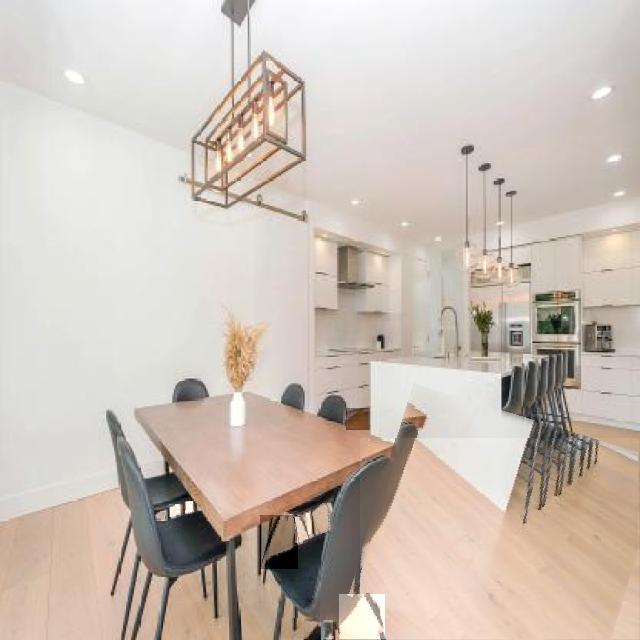floor: (361, 439, 639, 640), (0, 486, 136, 640), (260, 515, 298, 569), (340, 595, 385, 639), (280, 599, 320, 638), (313, 503, 329, 534), (347, 409, 370, 430), (295, 518, 308, 543), (305, 619, 320, 640), (324, 621, 333, 639), (170, 505, 180, 517), (185, 502, 193, 513), (155, 511, 164, 520), (307, 514, 311, 534)
